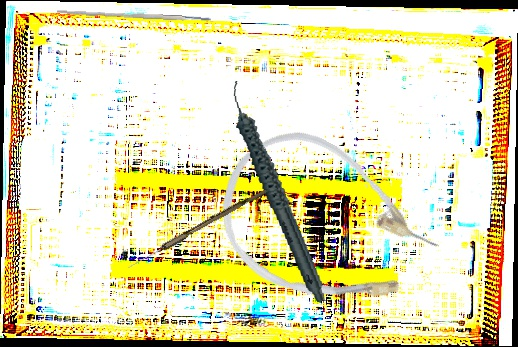Cannula: (195, 108, 458, 345)
Handpiece: (228, 72, 327, 311)
Scalpel Handle: (56, 8, 212, 24)
Surgical Spoon: (125, 185, 268, 273)
